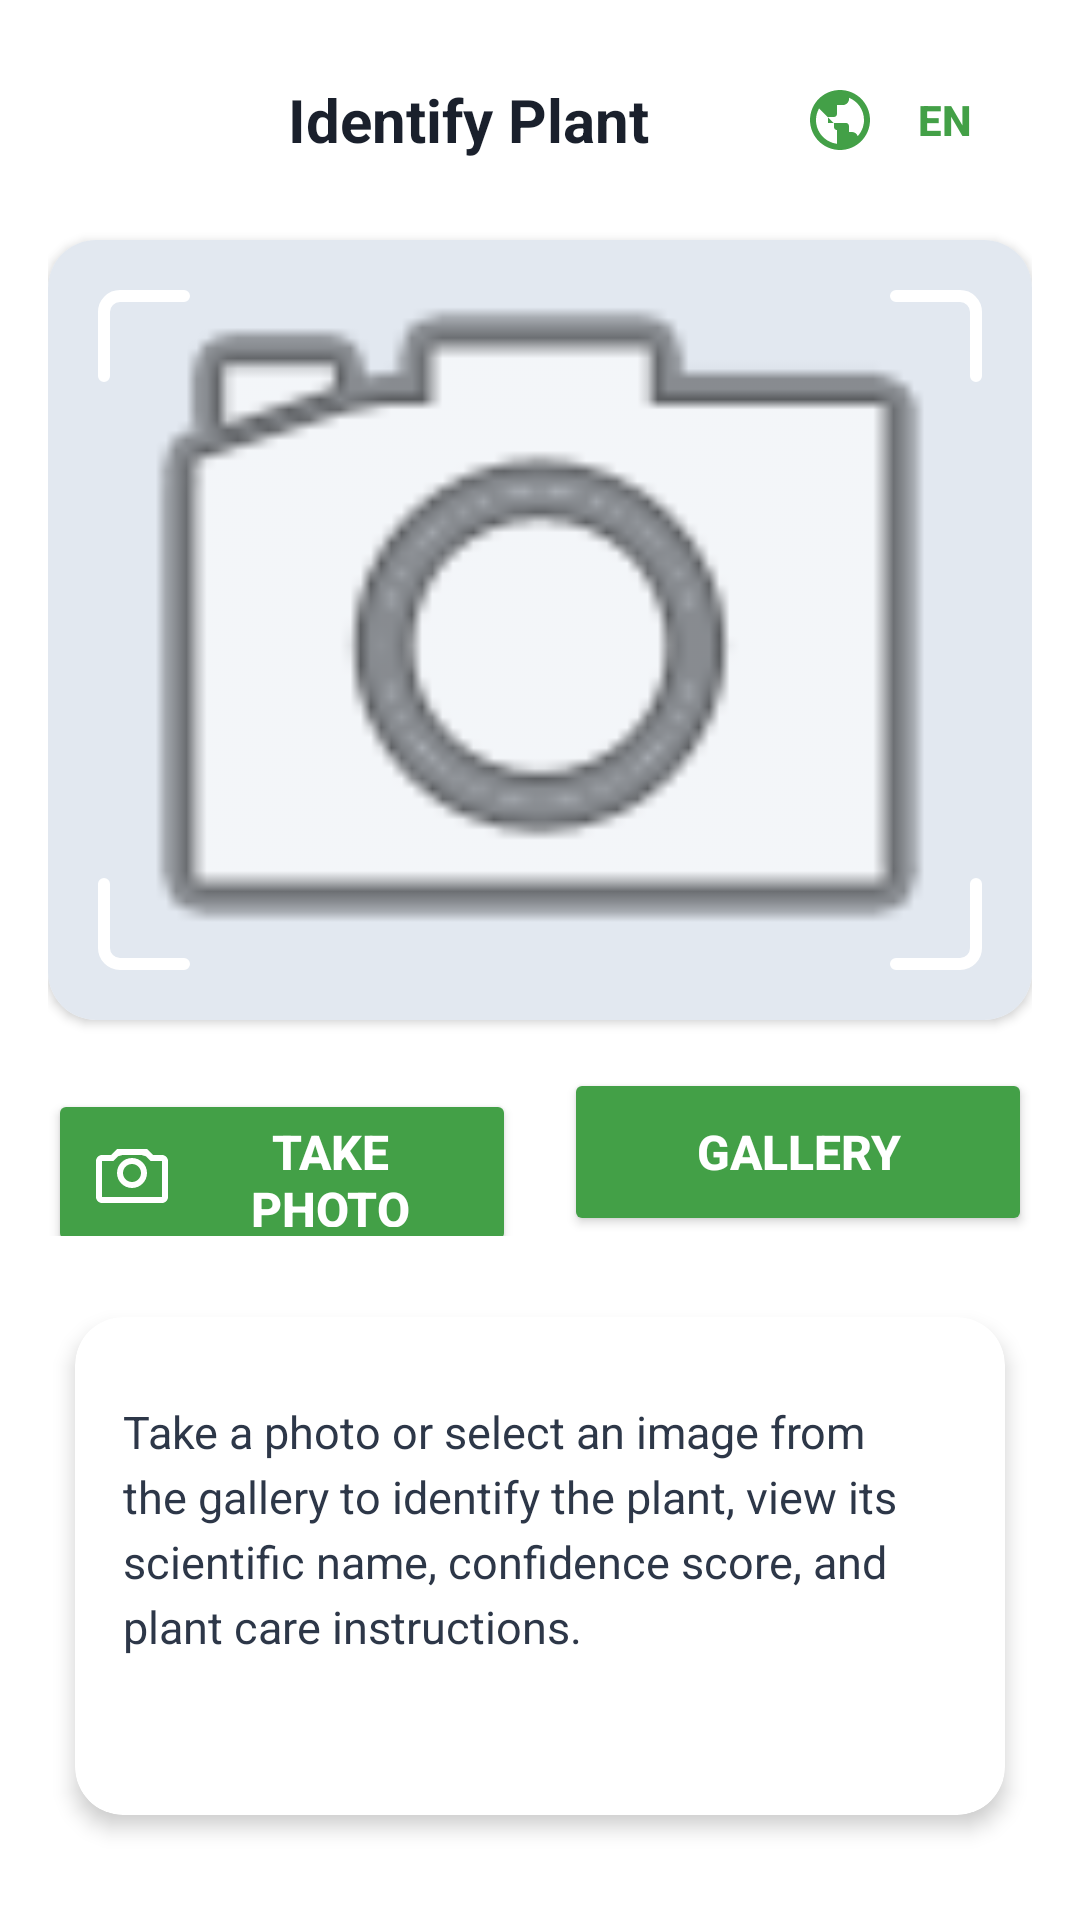

Icons on this 1080px×1920px Android screen, each with the point to tap as [x,y]:
corner bracket bl: [144,924]
corner bracket br: [936,924]
corner bracket tl: [144,336]
corner bracket tr: [936,336]
